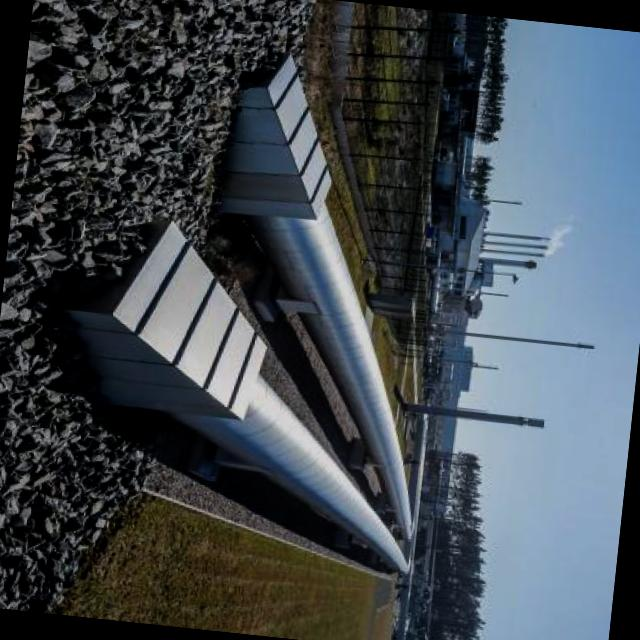gas: (251, 205, 410, 539), (160, 365, 407, 573)
